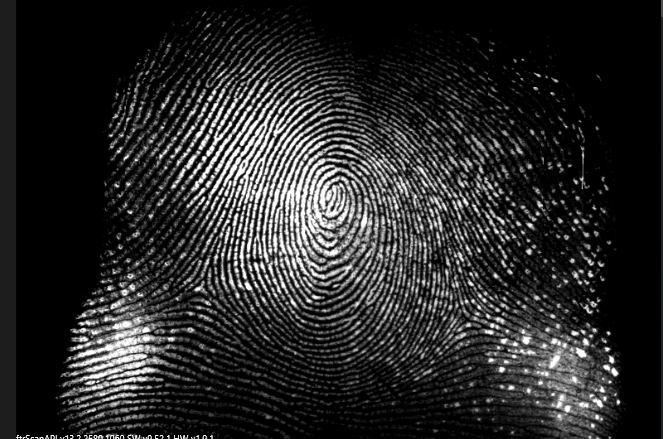deltas: (439, 283, 489, 343), (171, 256, 225, 307)
nucleo: (312, 168, 349, 221)
